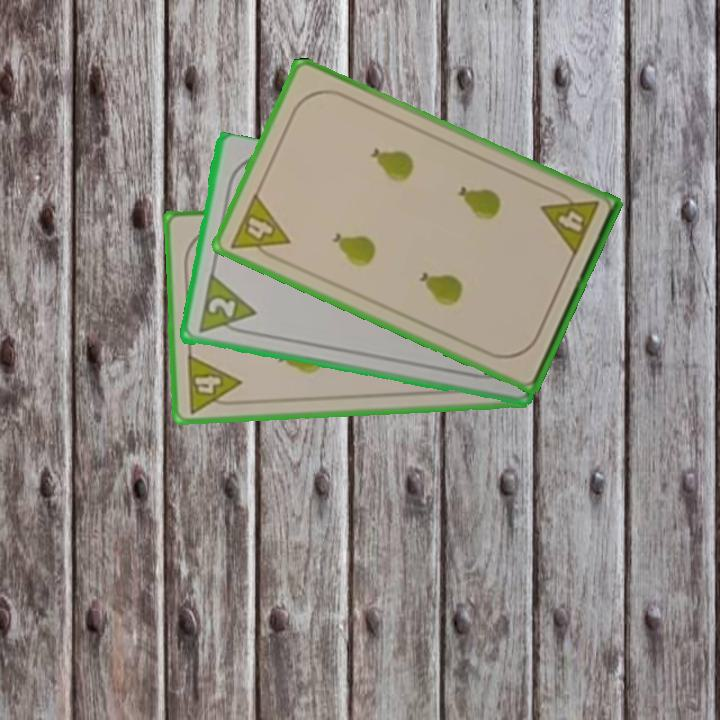2p: (204, 294, 239, 321)
4p: (226, 189, 293, 266), (537, 185, 602, 260), (183, 351, 244, 416)
